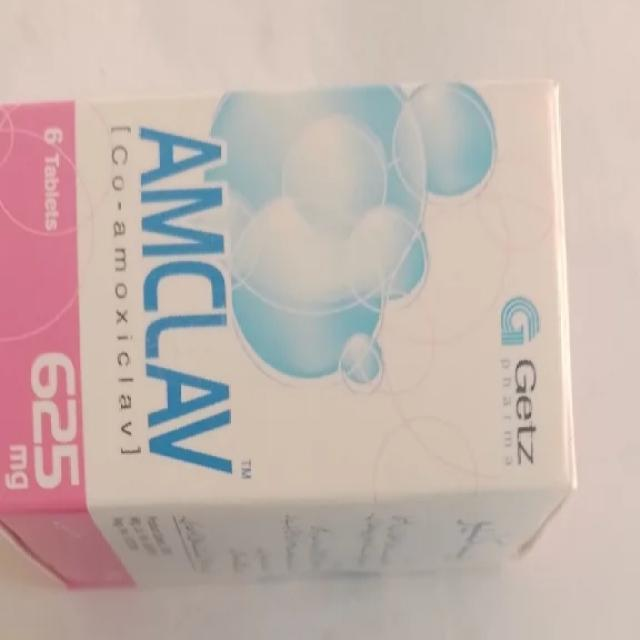drug-name: (137, 123, 240, 476)
